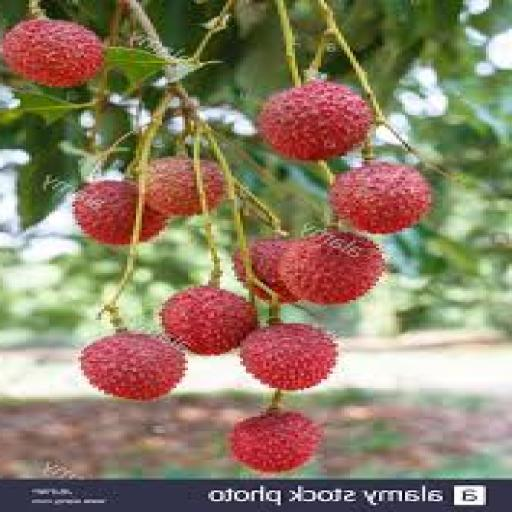lychee: (257, 81, 372, 159), (280, 230, 383, 305), (329, 162, 430, 233), (80, 333, 184, 400), (2, 20, 103, 86), (161, 286, 256, 355), (240, 324, 337, 389), (228, 412, 320, 472), (72, 180, 137, 246), (144, 157, 201, 215), (248, 239, 296, 303)
